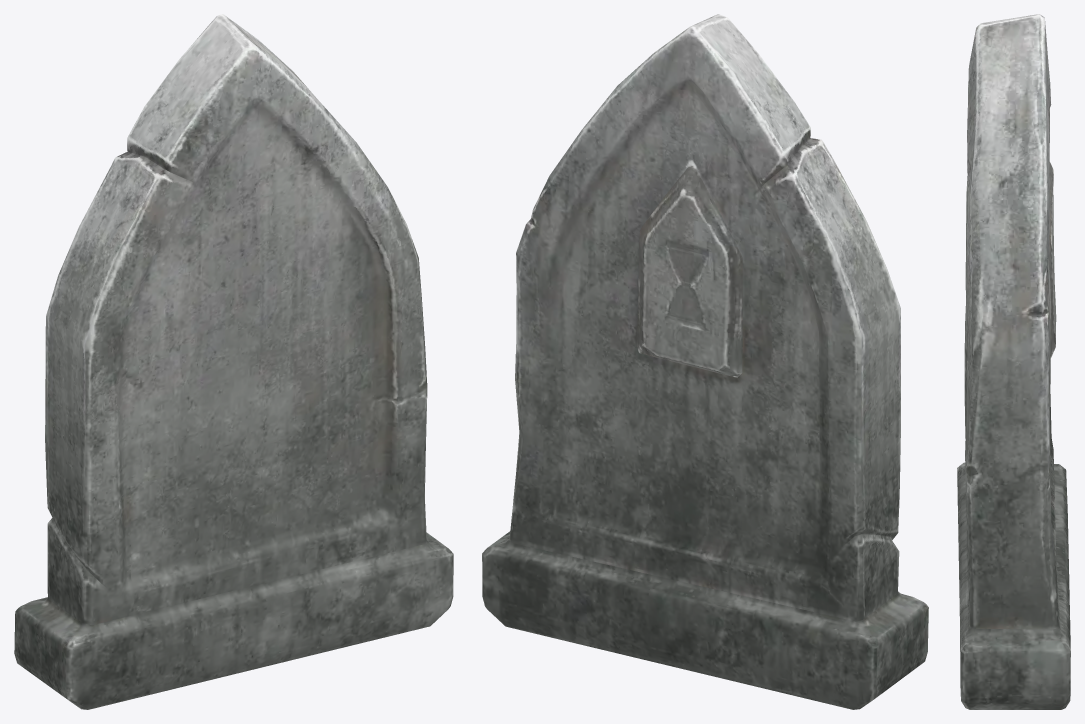
The picture shows the model from 3 angles, left to right: view 1: azimuth 30°, elevation 25°; view 2: azimuth 150°, elevation 25°; view 3: azimuth 270°, elevation 25°; orthographic projection. The views are drawn at different scales.
Visible parts, largest first — view 1: SM_Tombstone_Stone_03_LOD0; view 2: SM_Tombstone_Stone_03_LOD0; view 3: SM_Tombstone_Stone_03_LOD0.
Boxes of the visible parts, x1,y1,x2,y2 form: SM_Tombstone_Stone_03_LOD0: (14, 14, 453, 709); SM_Tombstone_Stone_03_LOD0: (482, 14, 928, 709); SM_Tombstone_Stone_03_LOD0: (957, 14, 1070, 709).
Bounding box in the file's own units: 1.24 × 1.91 × 0.3217.
1 material, 1 textured.
